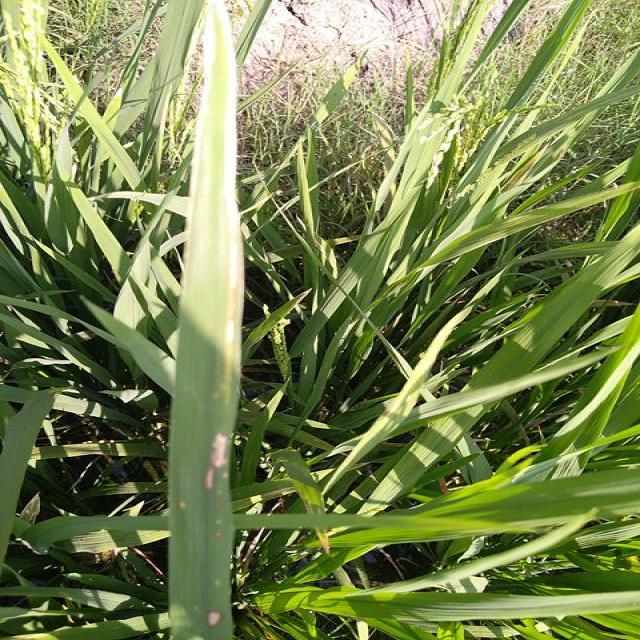Leaf Streak: (176, 0, 244, 523), (200, 591, 228, 639)
